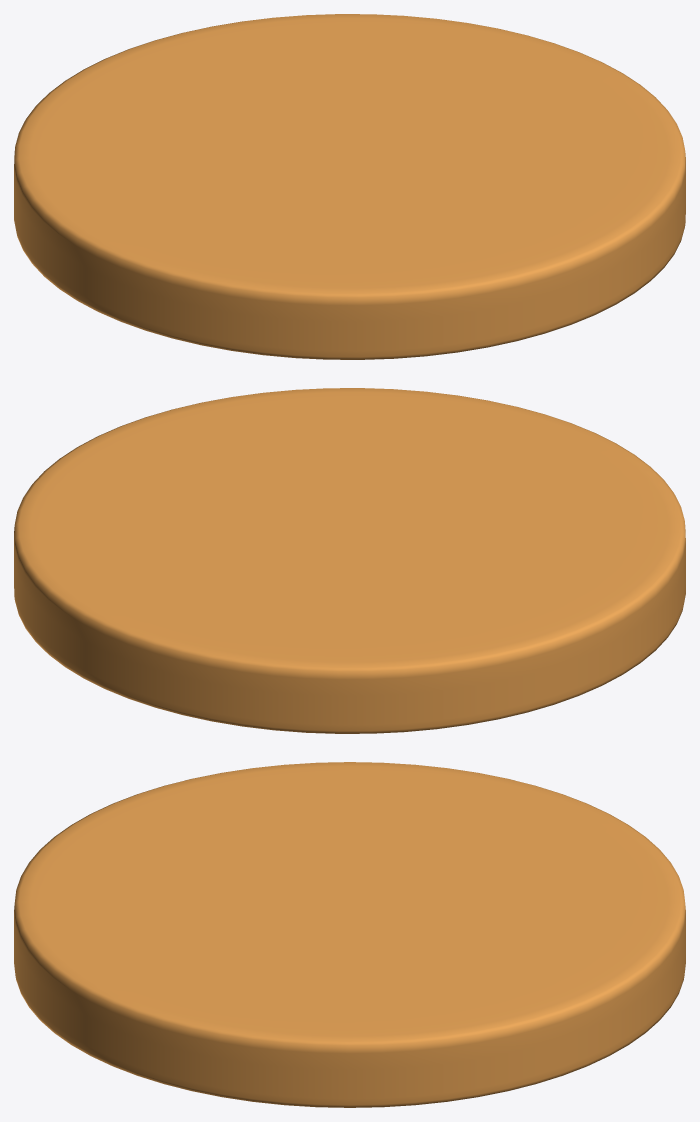
The model's file is BurgerDown.fbx.
The picture shows the model from 3 angles, top to bottom: view 1: azimuth 30°, elevation 25°; view 2: azimuth 150°, elevation 25°; view 3: azimuth 270°, elevation 25°; orthographic projection.
Parts seen in each view (by area): view 1: Sphere.001; view 2: Sphere.001; view 3: Sphere.001.
Boxes of the visible parts, x1=… form: Sphere.001: x1=14, y1=14, x2=685, y2=359; Sphere.001: x1=14, y1=388, x2=685, y2=733; Sphere.001: x1=14, y1=762, x2=685, y2=1107.
Bounding box in the file's own units: 18.02 × 1.98 × 18.02.
